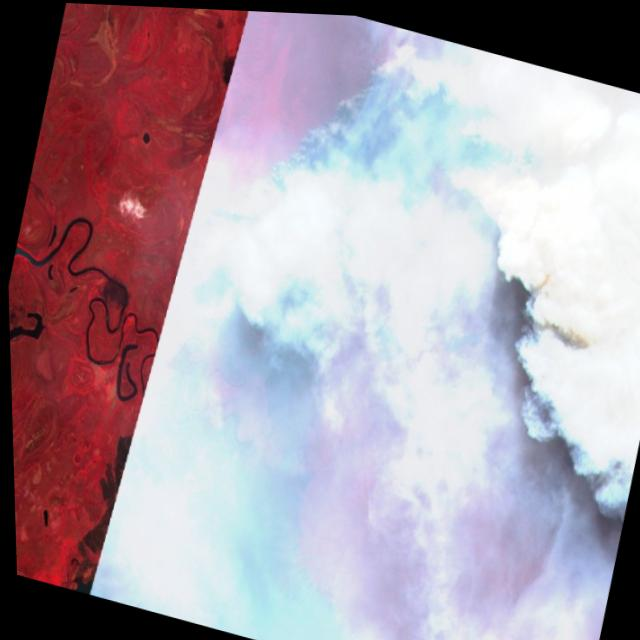fire: (146, 5, 579, 439)
